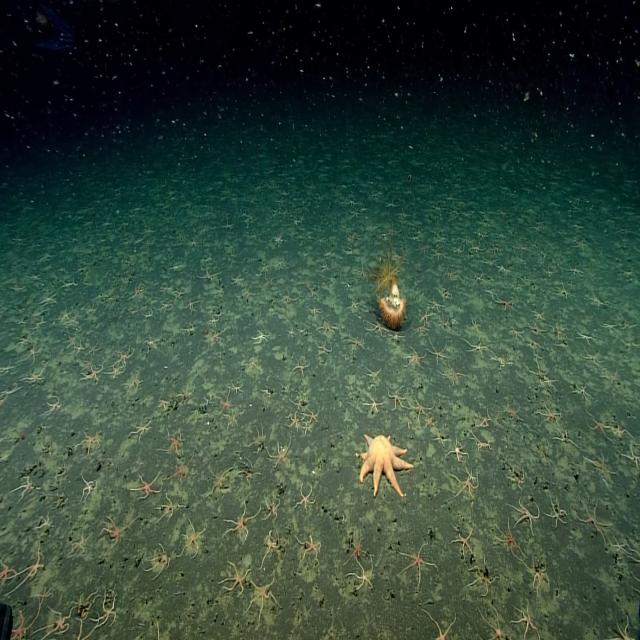brittle-stars: (579, 498, 609, 540), (400, 544, 433, 580), (250, 574, 278, 616), (226, 501, 256, 538), (511, 497, 540, 532), (423, 611, 458, 640), (479, 607, 507, 640), (10, 607, 38, 640), (133, 469, 162, 499), (45, 608, 73, 639), (180, 520, 204, 556), (514, 604, 538, 638), (224, 561, 248, 595), (496, 522, 520, 556), (170, 455, 196, 486), (104, 516, 129, 548), (97, 590, 118, 628), (472, 558, 496, 591), (611, 612, 639, 640), (23, 547, 44, 583), (351, 559, 374, 591), (454, 474, 480, 500), (0, 380, 23, 409), (150, 546, 170, 578), (300, 533, 322, 562), (211, 468, 232, 498), (302, 279, 324, 307), (454, 526, 474, 556), (66, 622, 98, 640), (588, 450, 611, 475), (547, 499, 566, 528), (587, 412, 608, 438), (159, 494, 179, 520), (271, 440, 291, 466), (131, 418, 153, 441), (530, 563, 548, 591), (538, 402, 560, 424), (442, 363, 465, 384), (70, 530, 90, 554), (264, 530, 281, 558), (75, 596, 93, 622), (140, 626, 173, 640), (388, 386, 407, 410), (348, 536, 367, 560), (298, 484, 316, 509), (165, 432, 183, 457), (265, 494, 282, 520), (0, 558, 17, 584), (81, 433, 102, 454), (17, 476, 36, 499), (83, 362, 104, 382), (27, 364, 48, 384), (412, 397, 432, 418), (240, 458, 257, 482), (625, 443, 640, 470), (585, 290, 606, 309), (170, 284, 191, 303), (251, 426, 266, 452), (82, 478, 98, 502), (363, 396, 383, 415), (468, 339, 488, 358), (529, 358, 548, 378), (428, 341, 446, 362), (115, 345, 134, 364), (407, 348, 425, 368), (505, 402, 523, 422), (573, 382, 591, 402), (557, 428, 575, 448), (44, 396, 61, 417), (127, 373, 143, 395), (26, 342, 42, 364), (511, 466, 526, 489), (366, 319, 385, 337), (492, 351, 511, 369), (494, 296, 514, 313), (347, 332, 364, 352), (473, 434, 493, 451), (447, 441, 465, 459), (38, 512, 52, 534), (37, 586, 53, 605), (179, 384, 194, 404), (583, 349, 600, 366), (292, 358, 308, 376), (603, 369, 619, 387), (477, 410, 492, 429), (218, 390, 232, 410), (60, 304, 74, 324), (41, 289, 57, 306), (107, 362, 124, 378), (89, 339, 104, 357), (227, 410, 241, 429), (280, 288, 296, 304), (556, 282, 571, 299), (321, 322, 338, 337), (208, 330, 223, 347), (0, 358, 15, 375), (614, 536, 628, 554), (541, 376, 556, 392), (624, 338, 640, 353), (630, 545, 640, 569), (145, 336, 159, 353), (320, 340, 334, 357), (553, 323, 567, 340), (288, 412, 300, 431), (253, 331, 268, 346), (579, 331, 594, 346), (428, 298, 443, 313), (622, 320, 637, 335), (574, 239, 589, 254), (184, 299, 198, 315), (86, 302, 100, 318), (14, 334, 28, 350), (0, 448, 11, 468), (247, 356, 259, 374), (511, 326, 526, 340), (568, 266, 583, 280), (532, 326, 547, 340), (354, 266, 368, 281), (602, 320, 617, 334), (307, 408, 320, 424), (419, 310, 433, 324), (230, 381, 244, 395), (470, 271, 484, 285), (239, 285, 252, 300), (614, 423, 626, 439), (222, 214, 234, 230), (160, 396, 172, 412), (390, 332, 404, 345), (309, 305, 323, 318), (497, 264, 510, 278), (63, 278, 77, 291), (105, 291, 118, 305), (528, 339, 542, 352), (208, 313, 220, 328), (414, 323, 429, 335), (424, 415, 436, 430), (444, 268, 456, 283), (470, 317, 481, 333), (440, 314, 451, 330), (348, 299, 361, 312), (162, 300, 174, 314), (532, 309, 544, 323), (133, 284, 145, 298), (292, 396, 304, 410), (263, 275, 275, 289), (66, 334, 77, 349), (233, 274, 246, 286), (142, 223, 154, 236), (207, 270, 220, 282), (260, 261, 272, 274), (634, 566, 640, 592), (74, 341, 85, 355), (483, 259, 497, 270), (0, 429, 7, 451), (470, 242, 482, 254), (452, 243, 464, 255), (542, 238, 554, 250), (28, 272, 40, 284), (542, 267, 554, 279), (100, 217, 112, 229), (214, 283, 225, 296), (286, 324, 296, 338), (304, 422, 314, 436), (442, 288, 453, 300), (438, 233, 449, 245), (323, 248, 334, 260), (476, 230, 487, 242), (398, 208, 408, 221), (162, 282, 172, 294), (350, 208, 360, 220), (298, 324, 308, 336), (348, 197, 358, 209), (188, 237, 198, 249), (291, 215, 301, 227), (275, 234, 284, 247), (320, 263, 330, 274), (282, 186, 290, 198)
